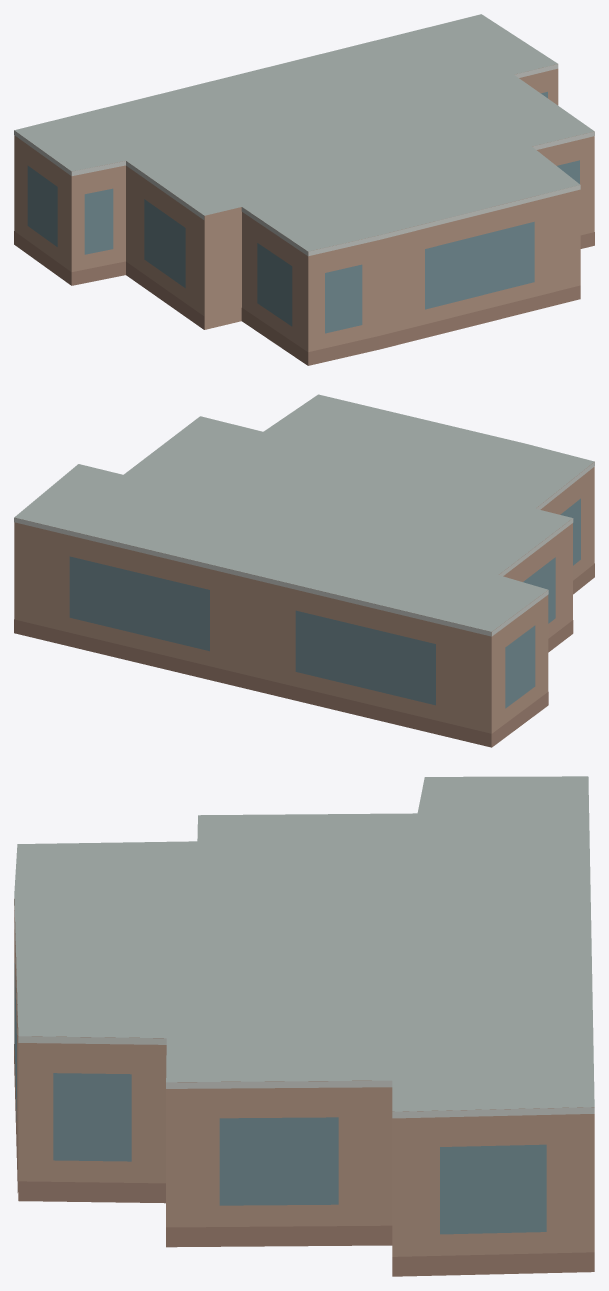
The model's file is survey-upis-32630313.glb.
3 views of the same model, one above another, from view 1: azimuth 30°, elevation 25°; view 2: azimuth 150°, elevation 25°; view 3: azimuth 270°, elevation 25° (orthographic). The views are drawn at different scales.
Visible parts, largest first — view 1: survey-upis-32630313.tmp; view 2: survey-upis-32630313.tmp; view 3: survey-upis-32630313.tmp.
Part boxes in pixels (left/top/right/bottom): survey-upis-32630313.tmp: left=14, top=14, right=594, bottom=365; survey-upis-32630313.tmp: left=14, top=394, right=594, bottom=747; survey-upis-32630313.tmp: left=14, top=776, right=594, bottom=1276.
Size of the model in its own units: 13.32 by 3.05 by 9.74.
